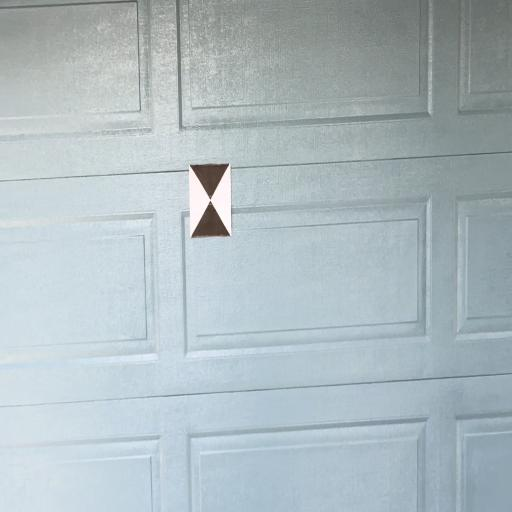target: (188, 165, 232, 238)
